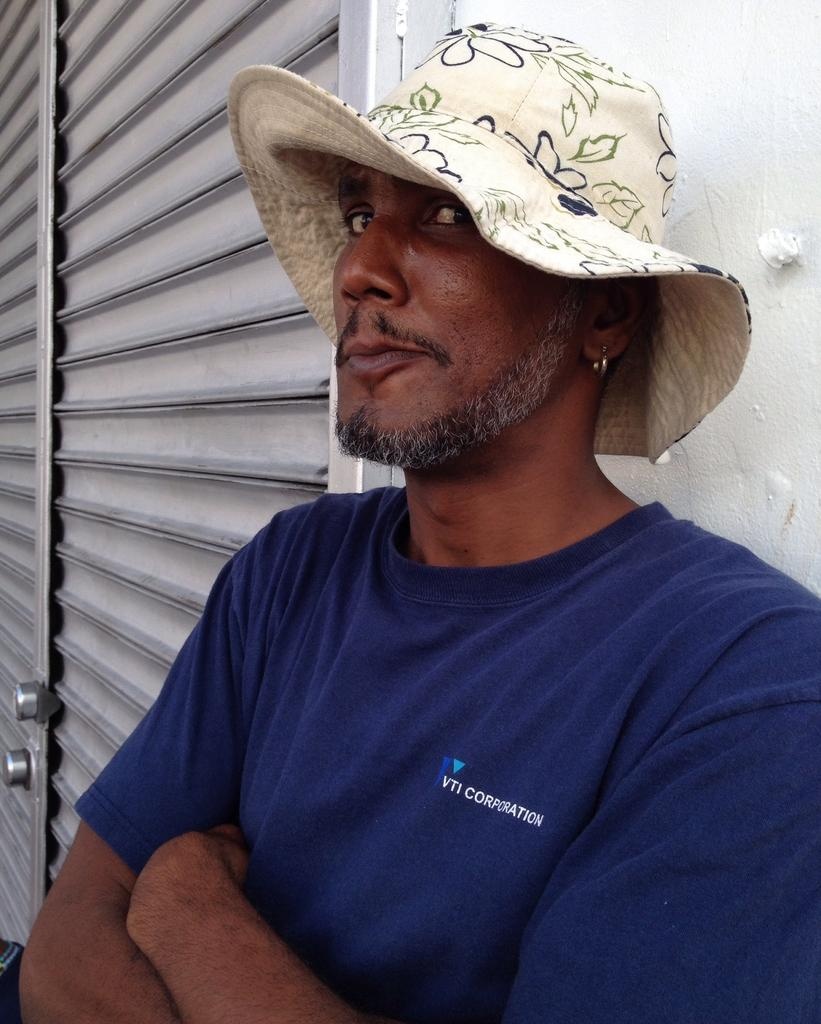Hat: (224, 20, 748, 466)
